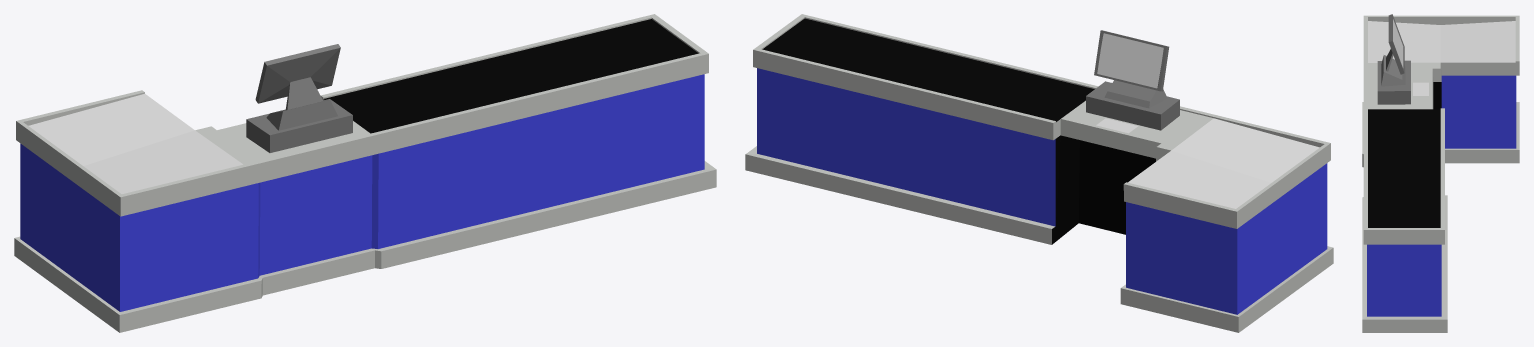
Rendered from cashier.fbx.
3 views of the same model, side by side, from view 1: azimuth 30°, elevation 25°; view 2: azimuth 150°, elevation 25°; view 3: azimuth 270°, elevation 25° (orthographic). The views are drawn at different scales.
Parts seen in each view (by area): view 1: Caixa; view 2: Caixa; view 3: Caixa.
Part boxes in pixels (left/top/right/bottom): Caixa: left=14, top=14, right=716, bottom=332; Caixa: left=745, top=14, right=1333, bottom=332; Caixa: left=1362, top=14, right=1519, bottom=332.
Bounding box in the file's own units: 492 × 170 × 151.
